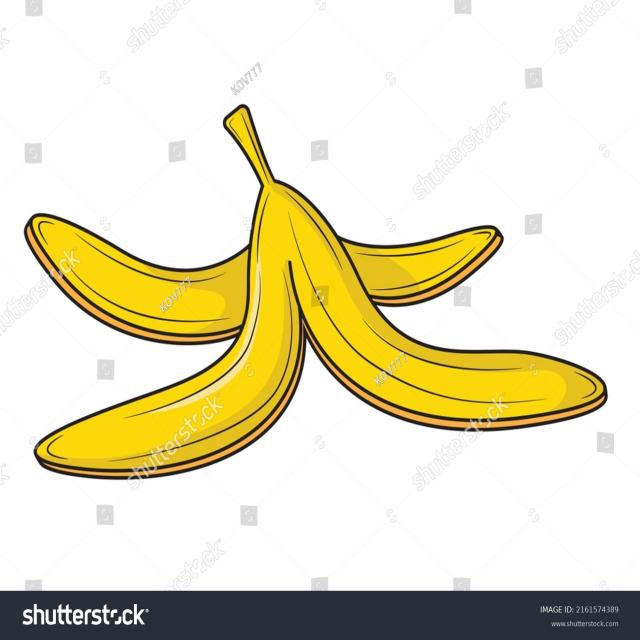banana_peel: (7, 60, 619, 495)
